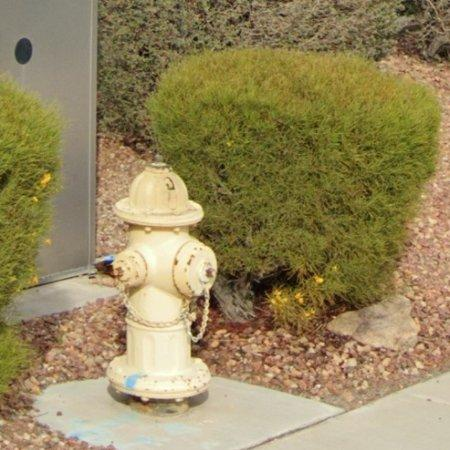a fire hydrant: (107, 162, 218, 408)
